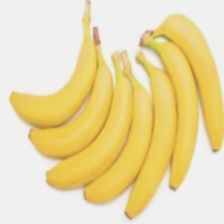banana: (34, 10, 219, 186)
